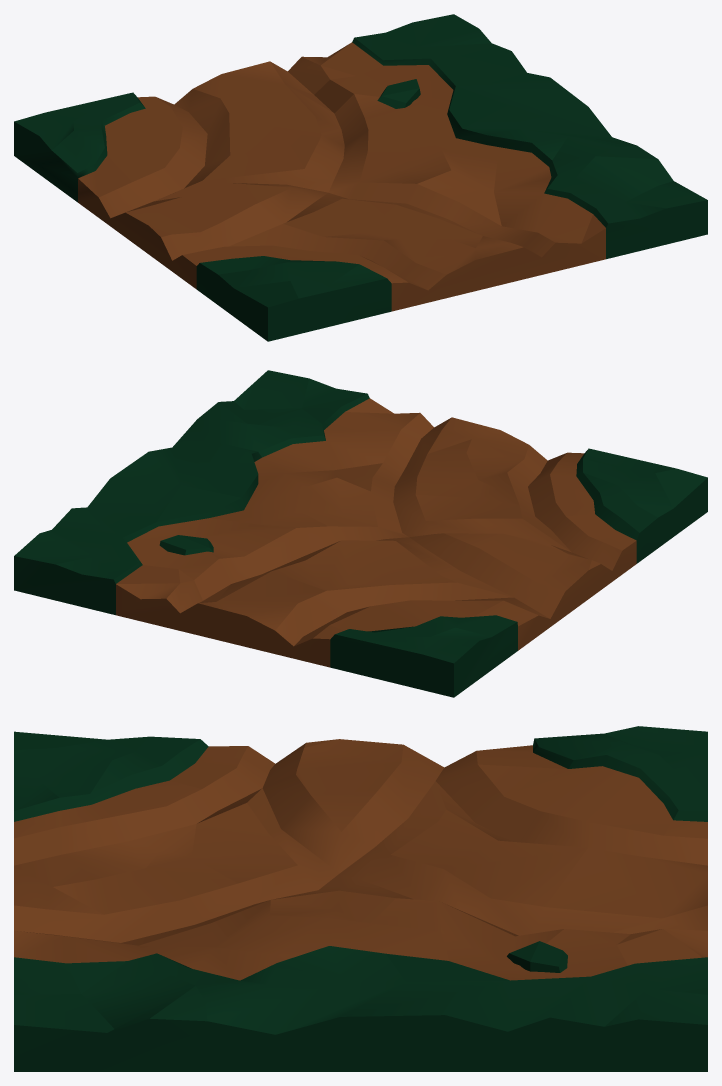
Rendered from Ground_Road_Crossroads_L_1.fbx.
3 views of the same model, one above another, from view 1: azimuth 30°, elevation 25°; view 2: azimuth 150°, elevation 25°; view 3: azimuth 270°, elevation 25° (orthographic). The views are drawn at different scales.
Visible parts, largest first — view 1: Ground_Road_Crossroads_L_1; view 2: Ground_Road_Crossroads_L_1; view 3: Ground_Road_Crossroads_L_1.
Part boxes in pixels (x1,y1,x2,y2): Ground_Road_Crossroads_L_1: [14, 14, 707, 341]; Ground_Road_Crossroads_L_1: [14, 370, 707, 697]; Ground_Road_Crossroads_L_1: [14, 726, 707, 1071].
Size of the model in its own units: 147 by 13.39 by 147.
